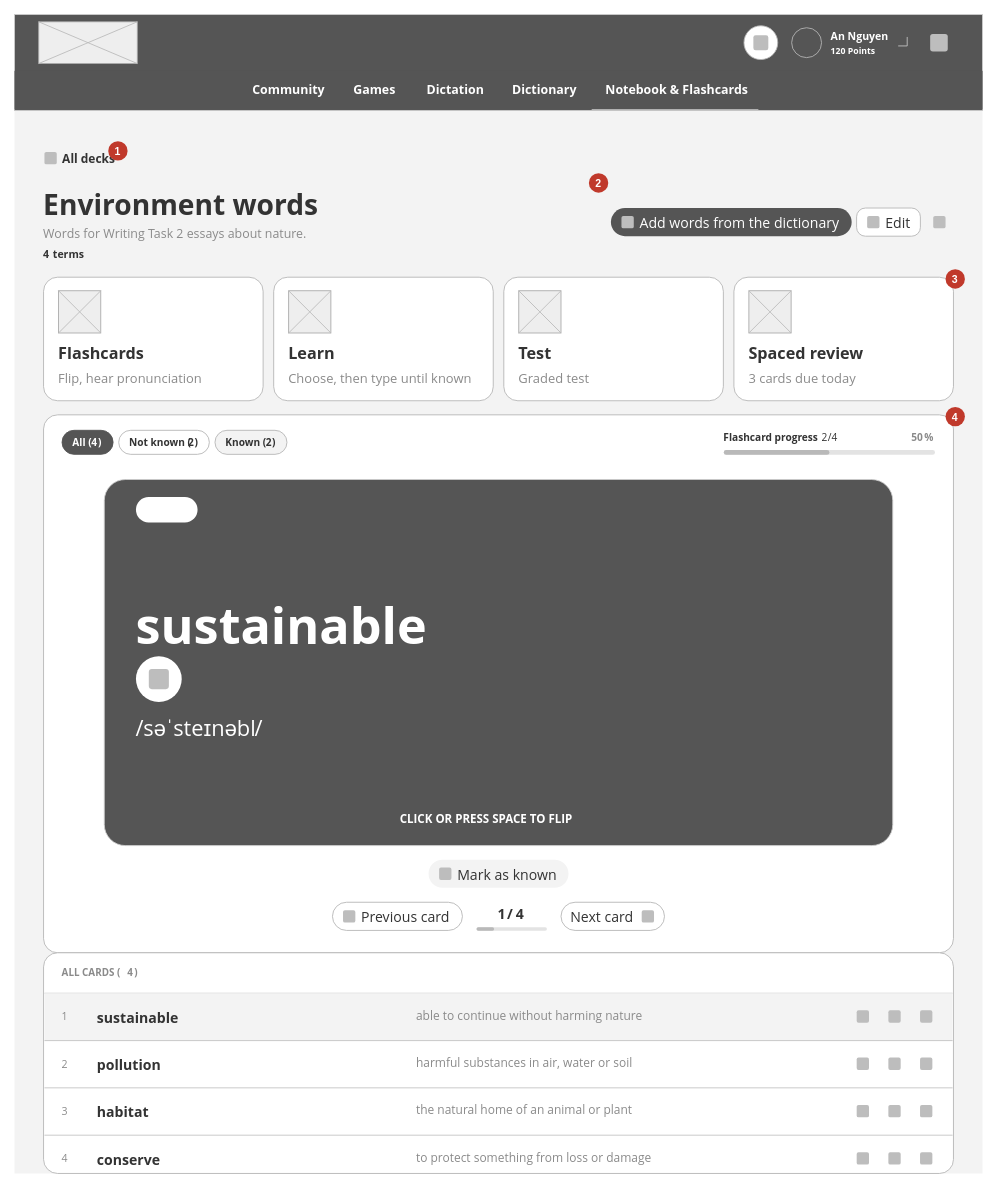
The diagram is 997 pixels wide and 1188 high, and some of its shapes have lost their labels. Here are the shapes that lost their labels. From the top down, the centre of each, then its label:
[806,42]: AN
[166,509]: FRONT
